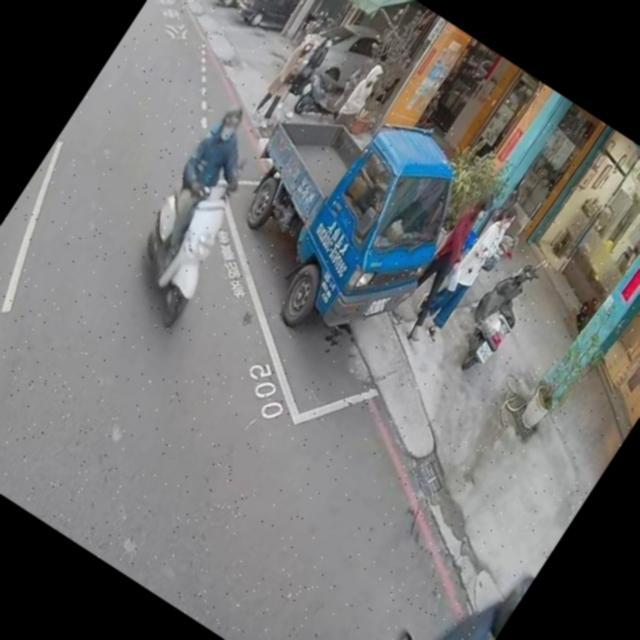person: (124, 98, 277, 286), (386, 185, 506, 342), (354, 539, 534, 640), (410, 194, 526, 350), (246, 26, 326, 130), (274, 30, 340, 119), (329, 55, 390, 134)
